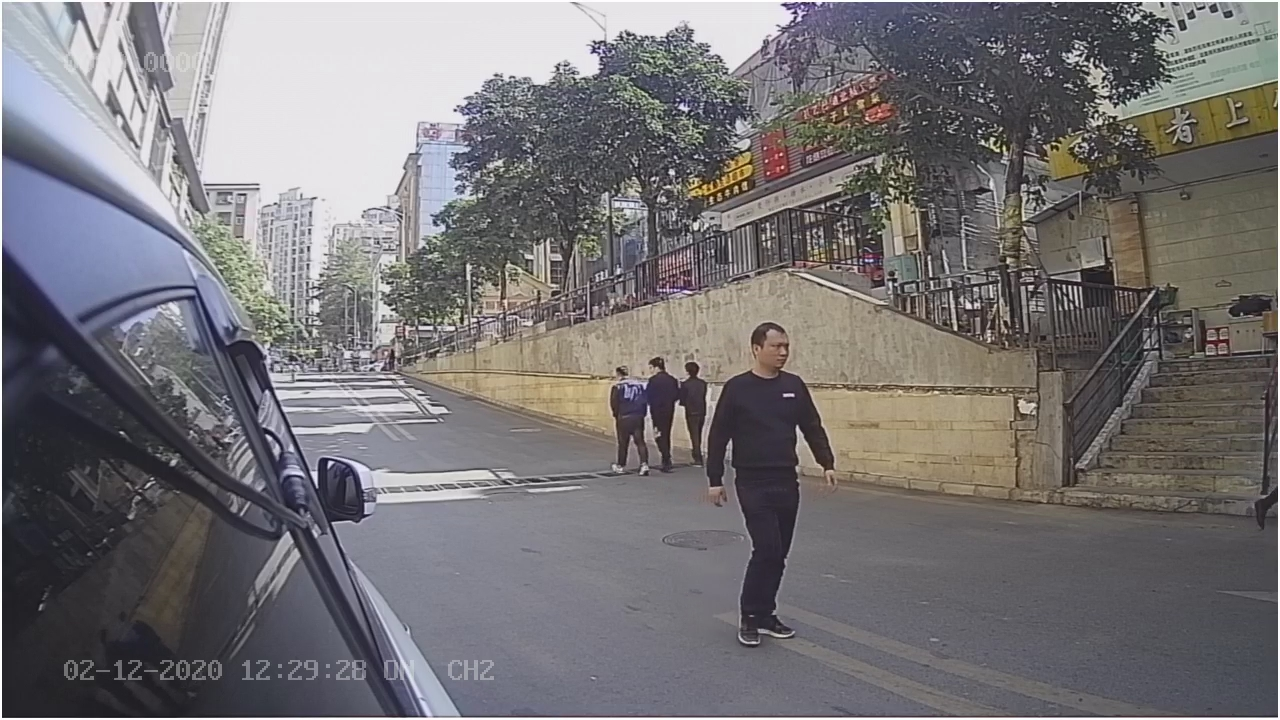person: (706, 322, 842, 651)
